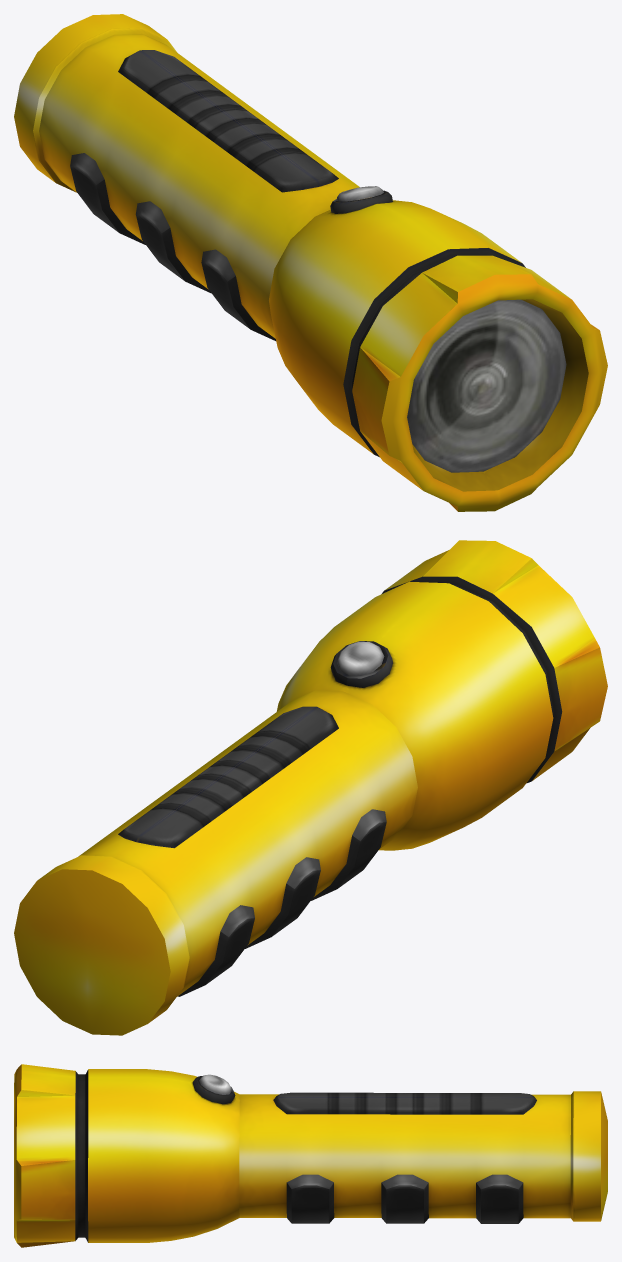
The model's file is roblox_-_flashlight.glb.
3 views of the same model, one above another, from view 1: azimuth 30°, elevation 25°; view 2: azimuth 150°, elevation 25°; view 3: azimuth 270°, elevation 25° (orthographic). The views are drawn at different scales.
Parts seen in each view (by area): view 1: Object_2; view 2: Object_2; view 3: Object_2.
Boxes of the visible parts, x1,y1,x2,y2 form: Object_2: (14,14,607,511); Object_2: (14,540,607,1035); Object_2: (14,1064,607,1247).
Bounding box in the file's own units: 0.5532 × 0.5526 × 1.75.
1 material, 1 textured.
